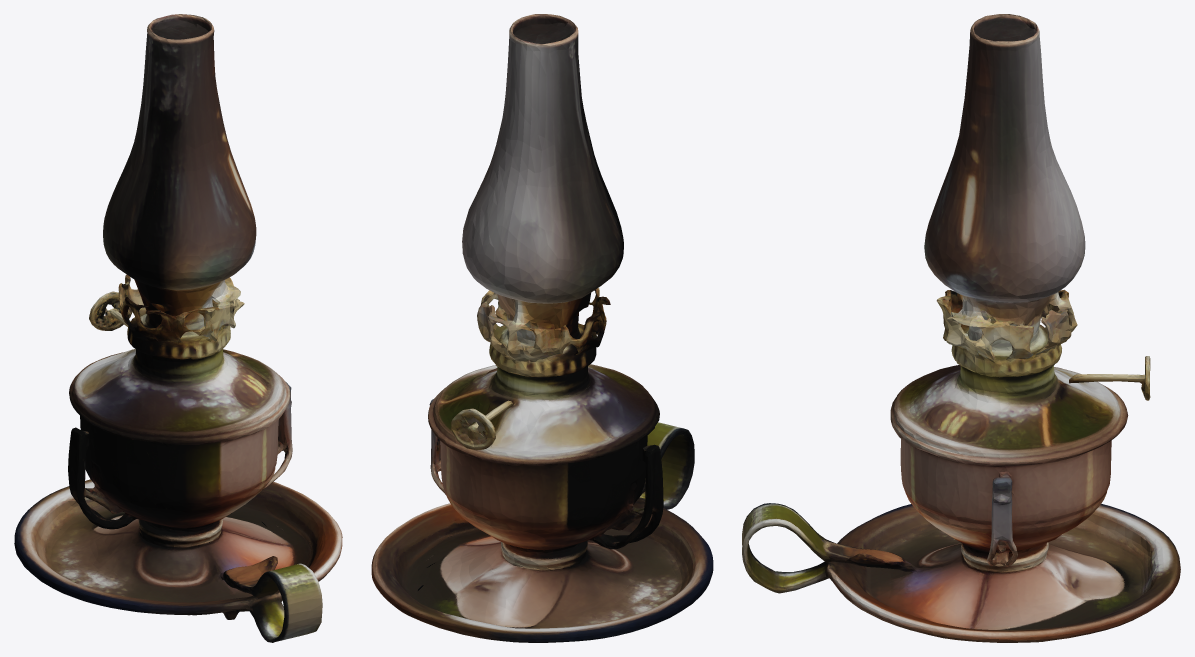
3 views of the same model, side by side, from view 1: azimuth 30°, elevation 25°; view 2: azimuth 150°, elevation 25°; view 3: azimuth 270°, elevation 25° (orthographic). The views are drawn at different scales.
Visible parts, largest first — view 1: geometry_0; view 2: geometry_0; view 3: geometry_0.
Part boxes in pixels (<box>): geometry_0: <box>14,14,342,642</box>; geometry_0: <box>371,14,713,642</box>; geometry_0: <box>742,14,1180,642</box>.
Bounding box in the file's own units: 0.5521 × 1 × 0.7094.
Materials: 1 (1 with a texture image).
